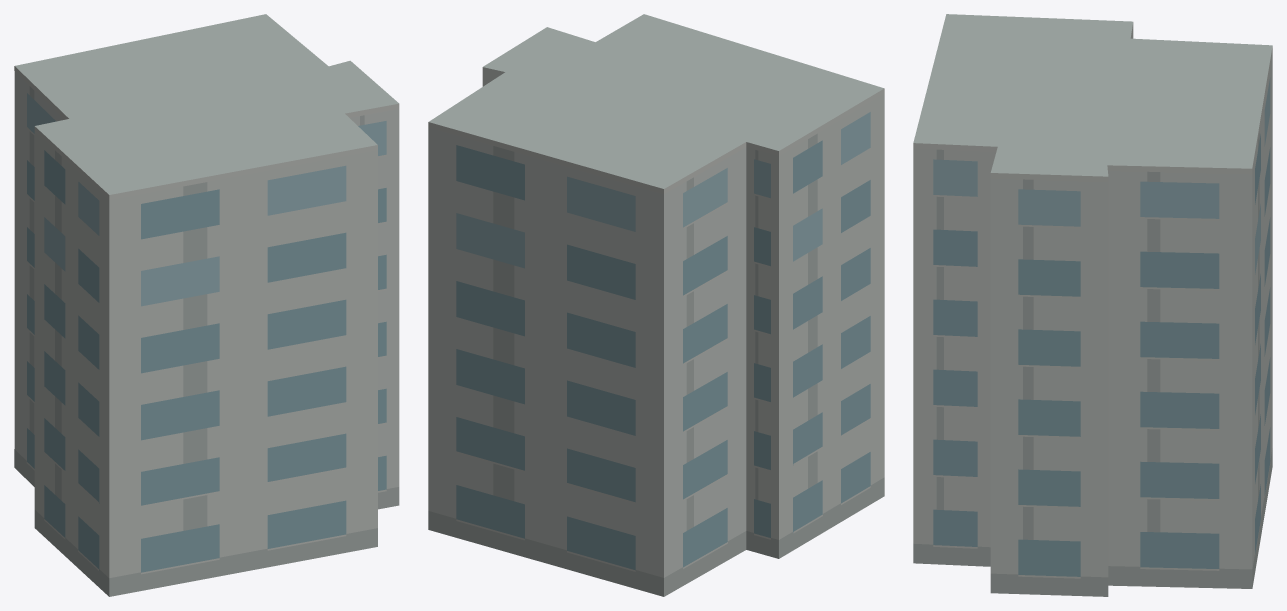
The model's file is survey-upis-32804269.glb.
The picture shows the model from 3 angles, left to right: view 1: azimuth 30°, elevation 25°; view 2: azimuth 150°, elevation 25°; view 3: azimuth 270°, elevation 25°; orthographic projection. The views are drawn at different scales.
Parts seen in each view (by area): view 1: survey-upis-32804269.tmp; view 2: survey-upis-32804269.tmp; view 3: survey-upis-32804269.tmp.
Boxes of the visible parts, x1,y1,x2,y2 form: survey-upis-32804269.tmp: (14,14,399,596); survey-upis-32804269.tmp: (428,14,884,596); survey-upis-32804269.tmp: (913,14,1272,596).
Bounding box in the file's own units: 15.44 × 18.6 × 14.43.
